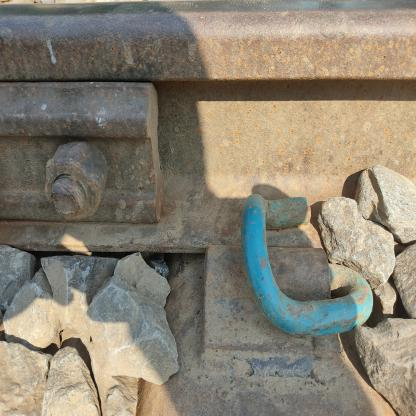Non Defective 1: (180, 157, 416, 405)
